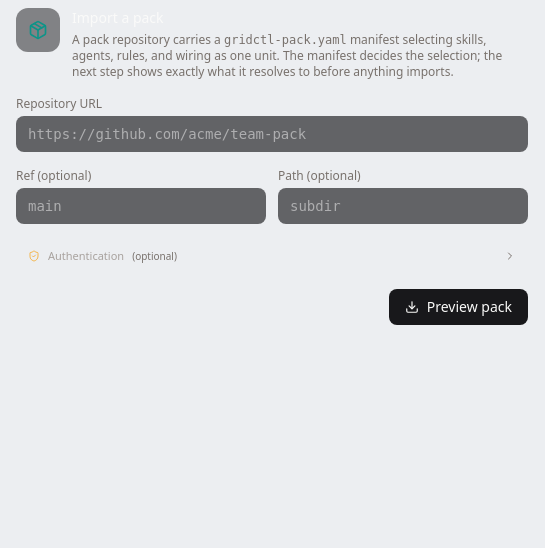
PackImportWizard — unreachable ssh-agent › shows its own banner and does NOT open the credentials card
Step 1. Type "git@github.com:acme/private-pack.git" into the field named "pack repository url" → (272, 134), box [16,116,528,152]
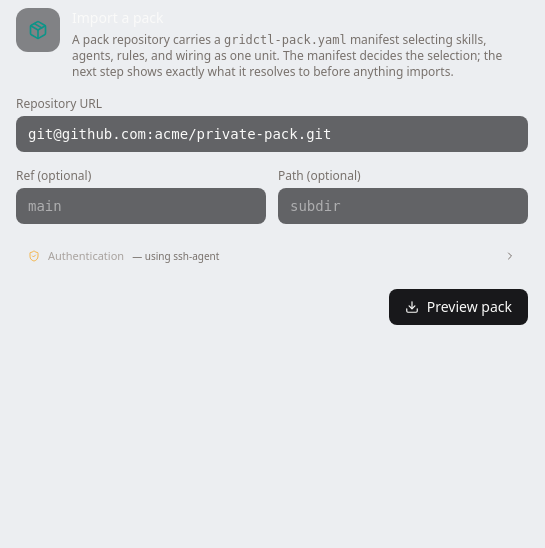
Step 2. Click the button "Preview pack" → click(458, 306), box [389,288,528,324]
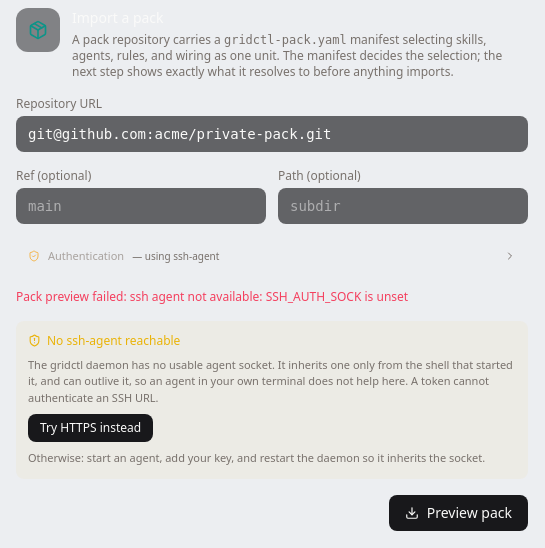
Result: the text "No ssh-agent reachable" is shown at [28,332,180,348]
Result: the text "restart the daemon" is shown at [28,450,485,465]
